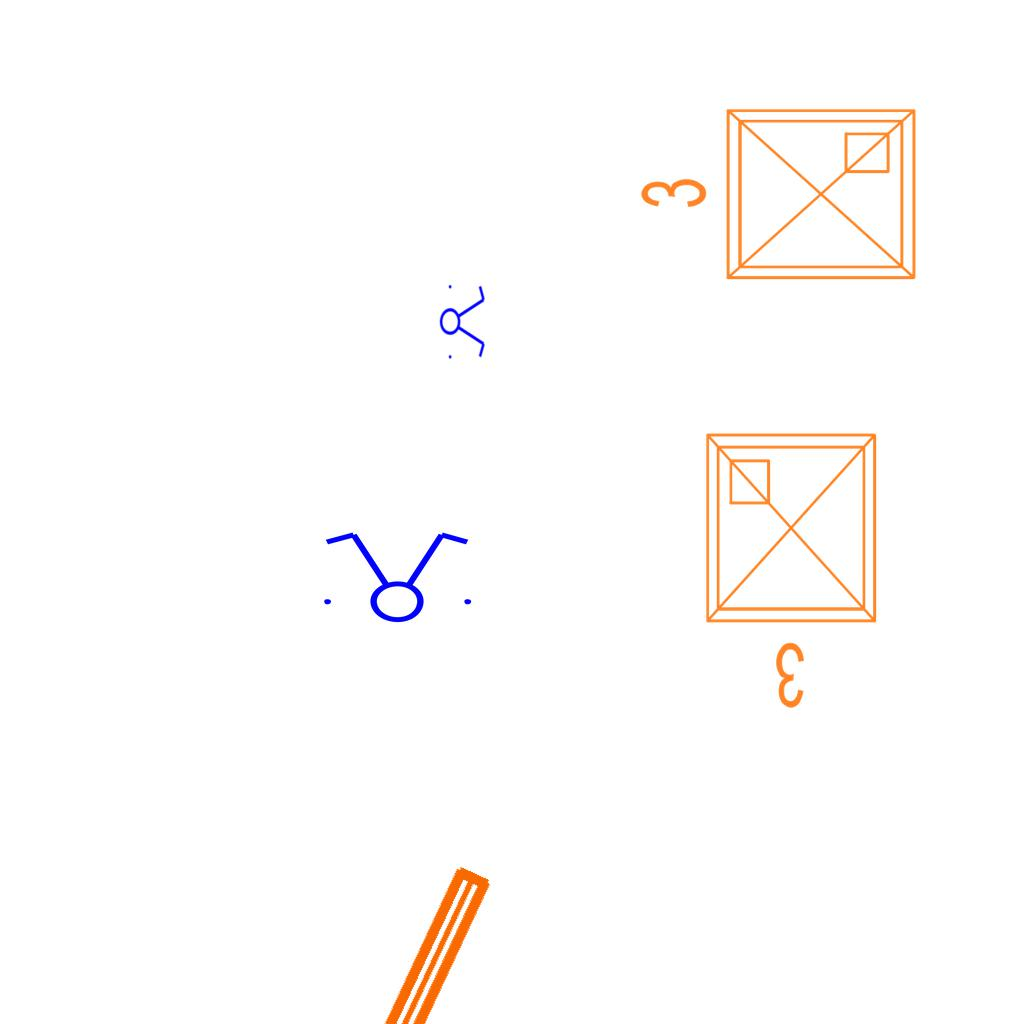Ambulanz_Pendelleuchte_LED: (124, 850, 554, 1024)
Einbaudownlights_LED_Konferenzraeume: (691, 419, 899, 719), (630, 94, 930, 302)
Serienschalter: (312, 528, 480, 624), (439, 279, 487, 363)
